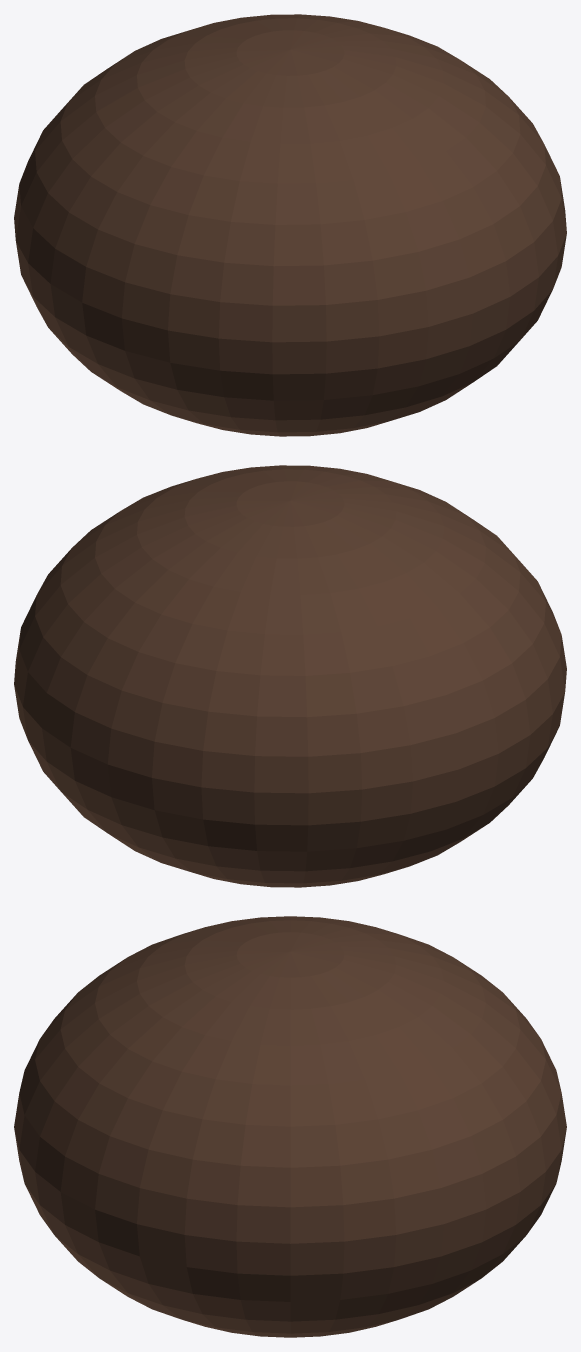
File: hair_style1.glb
3 renders of one model, top to bottom at view 1: azimuth 30°, elevation 25°; view 2: azimuth 150°, elevation 25°; view 3: azimuth 270°, elevation 25°, orthographic.
Visible parts, largest first — view 1: hair_style1; view 2: hair_style1; view 3: hair_style1.
Part boxes in pixels (x1=…): hair_style1: x1=14, y1=14, x2=566, y2=436; hair_style1: x1=14, y1=465, x2=566, y2=887; hair_style1: x1=14, y1=916, x2=566, y2=1337.
Bounding box in the file's own units: 0.54 × 0.378 × 0.54.
